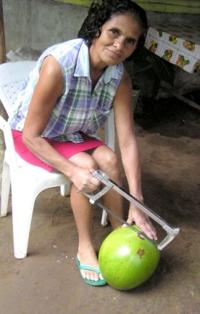person: (9, 1, 159, 283)
